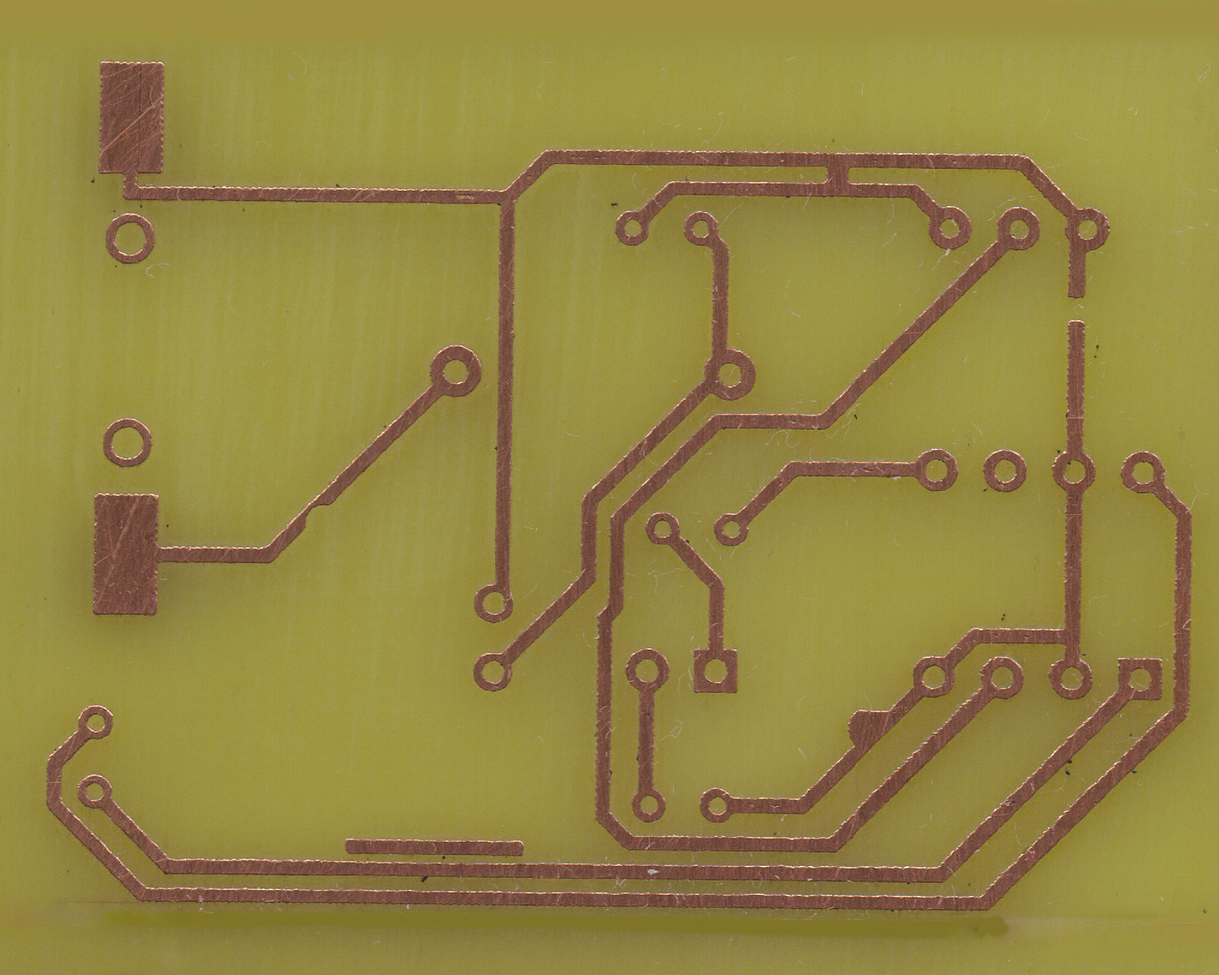mouse_bite: (292, 500, 338, 528)
open_circuit: (1057, 280, 1095, 341)
short: (817, 145, 859, 202)
spur: (841, 705, 888, 747)
spurious_copper: (341, 834, 530, 861)
